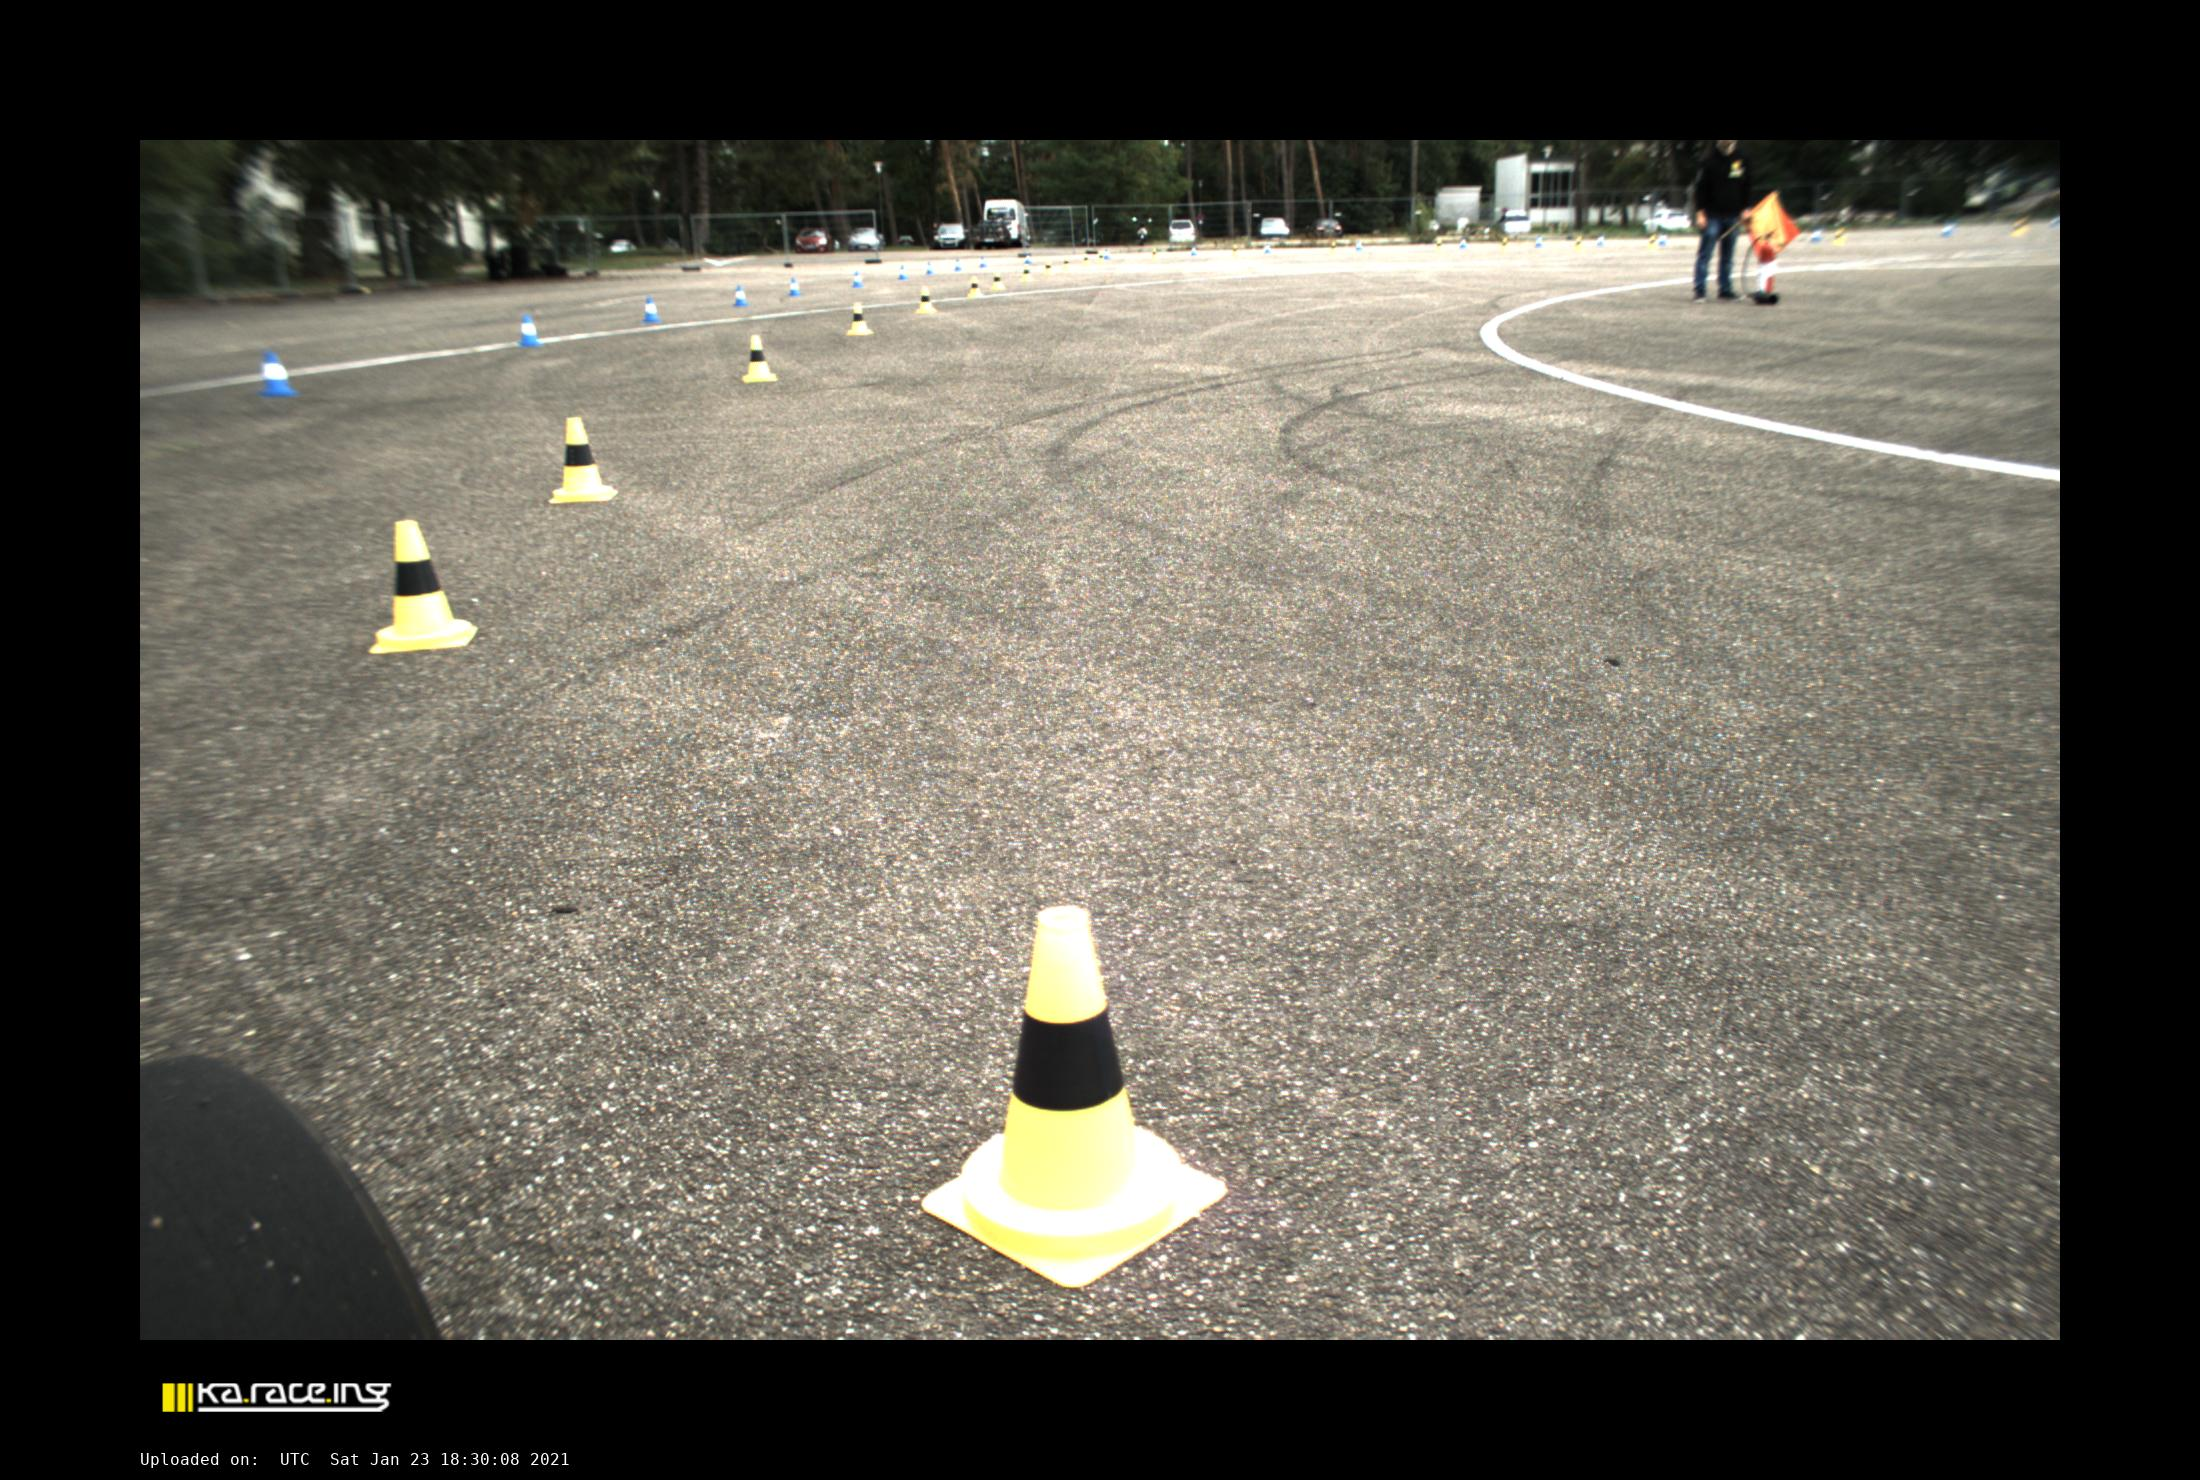blue_cone: (259, 350, 297, 396), (519, 315, 543, 347), (642, 297, 661, 322), (733, 286, 748, 306), (788, 277, 803, 296), (1809, 226, 1823, 243), (1941, 220, 1954, 236), (852, 271, 864, 287), (897, 264, 908, 281), (925, 261, 933, 274), (1534, 235, 1543, 248), (1595, 235, 1604, 248), (1658, 233, 1667, 246), (979, 256, 988, 268), (1024, 253, 1032, 264), (1264, 243, 1272, 254), (1354, 241, 1363, 253), (1458, 238, 1467, 249), (1103, 249, 1112, 259), (1189, 246, 1197, 256), (955, 259, 961, 271)
yellow_cone: (922, 905, 1226, 1287), (370, 519, 477, 654), (548, 416, 618, 504), (742, 335, 776, 382), (847, 302, 874, 335), (917, 286, 936, 312), (2010, 216, 2030, 236), (968, 276, 983, 297), (991, 271, 1006, 291), (1832, 226, 1847, 246), (1021, 264, 1034, 282), (1647, 233, 1658, 251), (1044, 259, 1055, 274), (1060, 256, 1072, 271), (1080, 253, 1092, 268), (1435, 236, 1445, 253), (1500, 236, 1510, 253), (1572, 236, 1582, 251), (1097, 251, 1107, 264), (1150, 248, 1159, 261), (1326, 241, 1336, 254), (1230, 244, 1239, 258)
